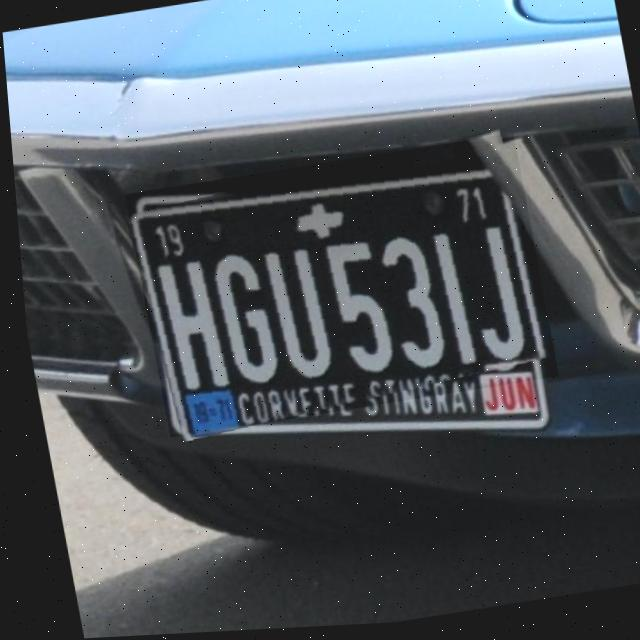LicensePlate: (119, 137, 554, 439)
